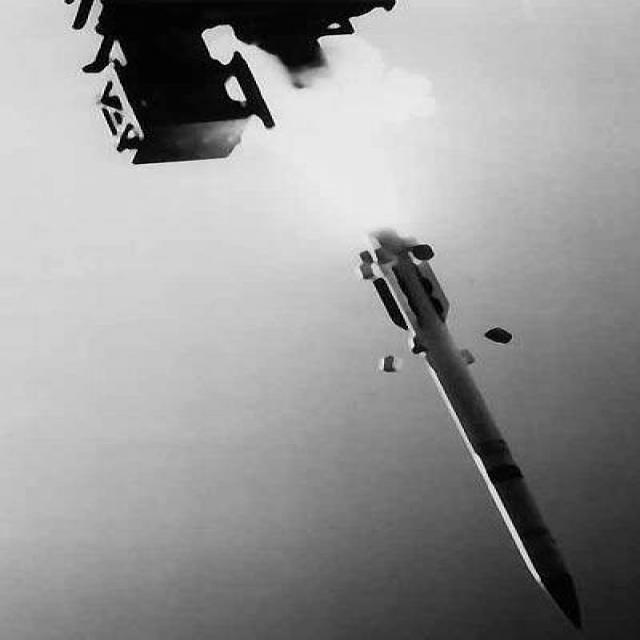Missile: (359, 223, 601, 636)
